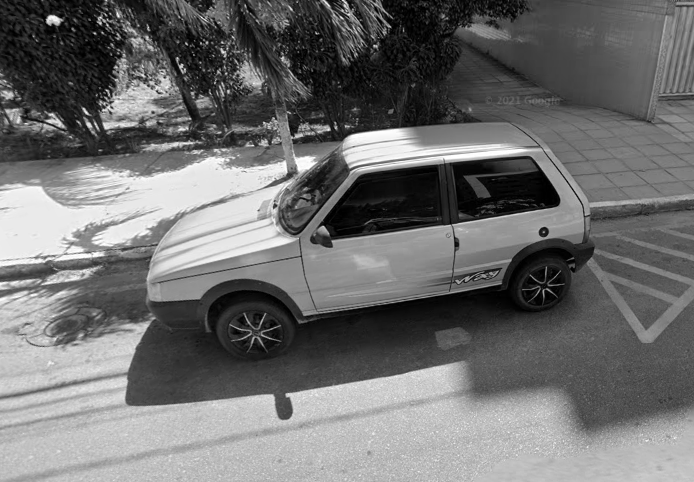car: (141, 118, 599, 365)
